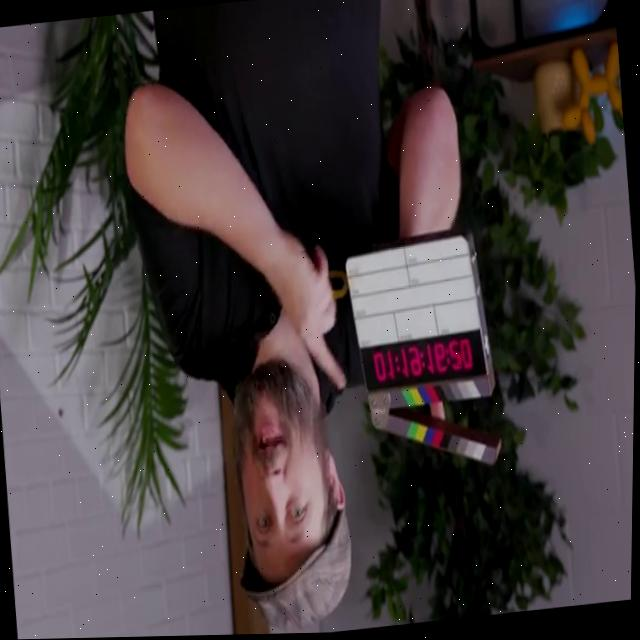Clapperboard: (338, 216, 511, 486)
